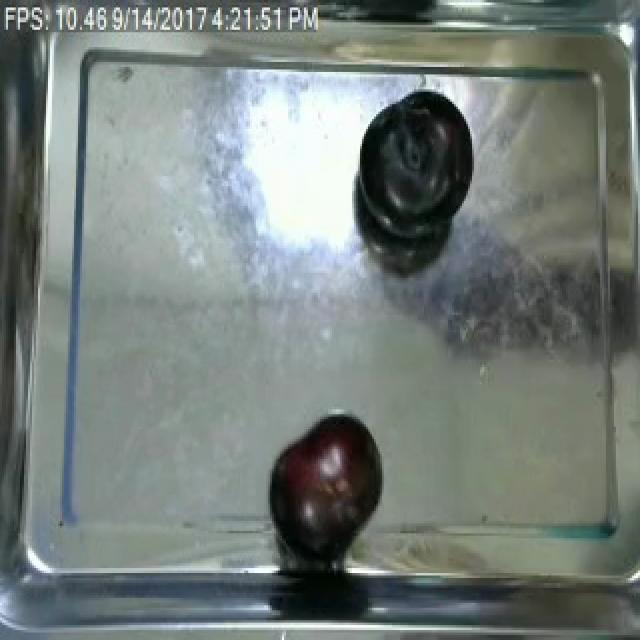Fruit: (350, 89, 478, 241), (268, 409, 386, 538)
